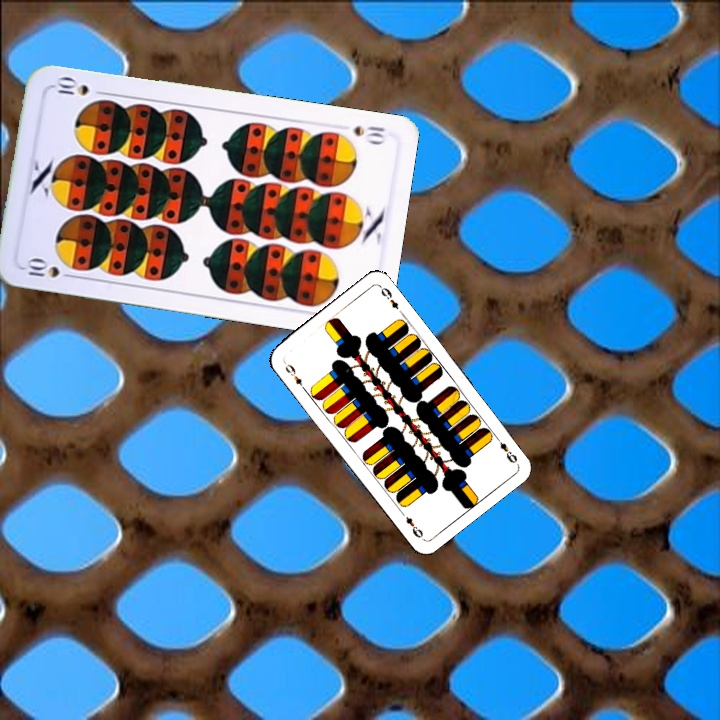E9: (491, 432, 520, 467), (280, 358, 308, 393)
S10: (19, 255, 78, 281), (349, 122, 387, 147)
